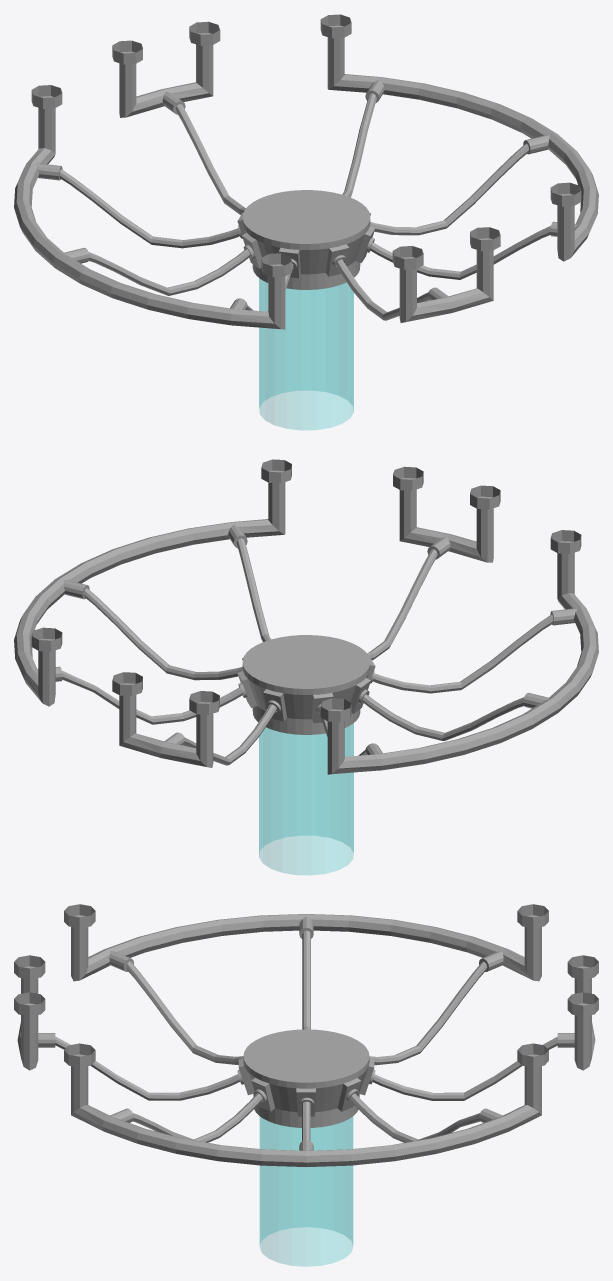
File: Nucleo.fbx
3 views of the same model, one above another, from view 1: azimuth 30°, elevation 25°; view 2: azimuth 150°, elevation 25°; view 3: azimuth 270°, elevation 25° (orthographic).
Parts seen in each view (by area): view 1: Nucleo; view 2: Nucleo; view 3: Nucleo.
Part boxes in pixels (left/top/right/bottom): Nucleo: left=14, top=14, right=598, bottom=430; Nucleo: left=14, top=459, right=598, bottom=875; Nucleo: left=14, top=904, right=598, bottom=1266.
Size of the model in its own units: 1326 by 675 by 1342.
